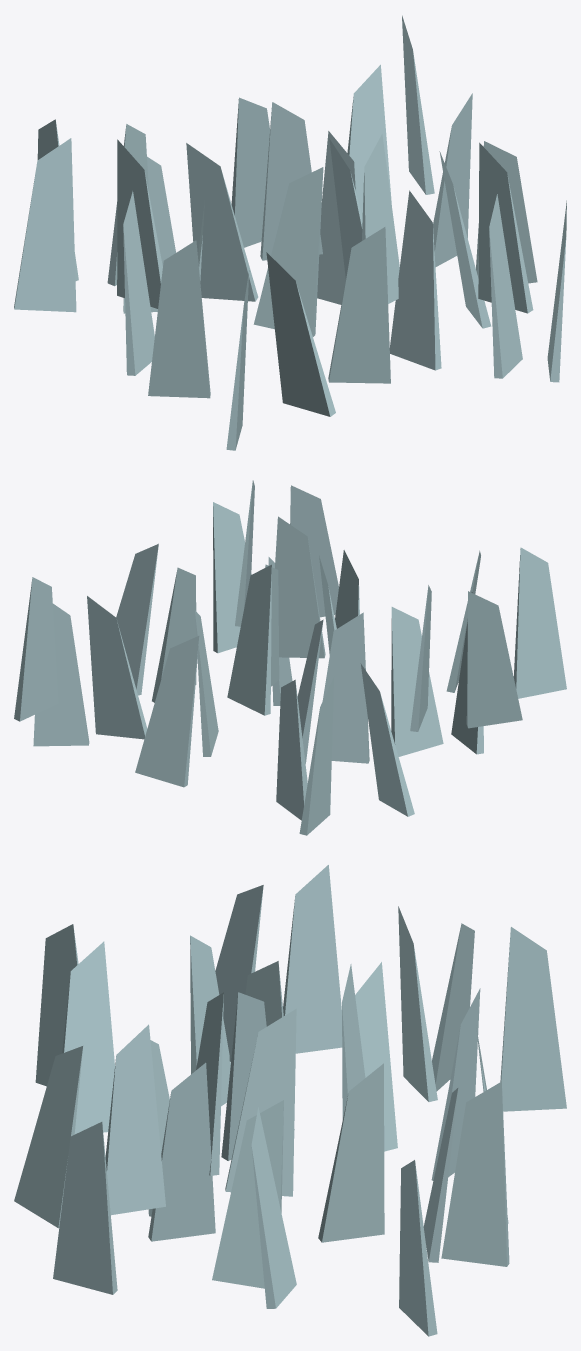
The model's file is Grass_Extra_FrostyFields.fbx.
The picture shows the model from 3 angles, top to bottom: view 1: azimuth 30°, elevation 25°; view 2: azimuth 150°, elevation 25°; view 3: azimuth 270°, elevation 25°; orthographic projection. The views are drawn at different scales.
Visible parts, largest first — view 1: Grass_Extra_Large_01.001; view 2: Grass_Extra_Large_01.001; view 3: Grass_Extra_Large_01.001.
Boxes of the visible parts, bbox=[...] form: Grass_Extra_Large_01.001: bbox=[14, 15, 566, 450]; Grass_Extra_Large_01.001: bbox=[14, 480, 566, 835]; Grass_Extra_Large_01.001: bbox=[14, 865, 566, 1336].
Size of the model in its own units: 85.08 by 44.14 by 84.38.
